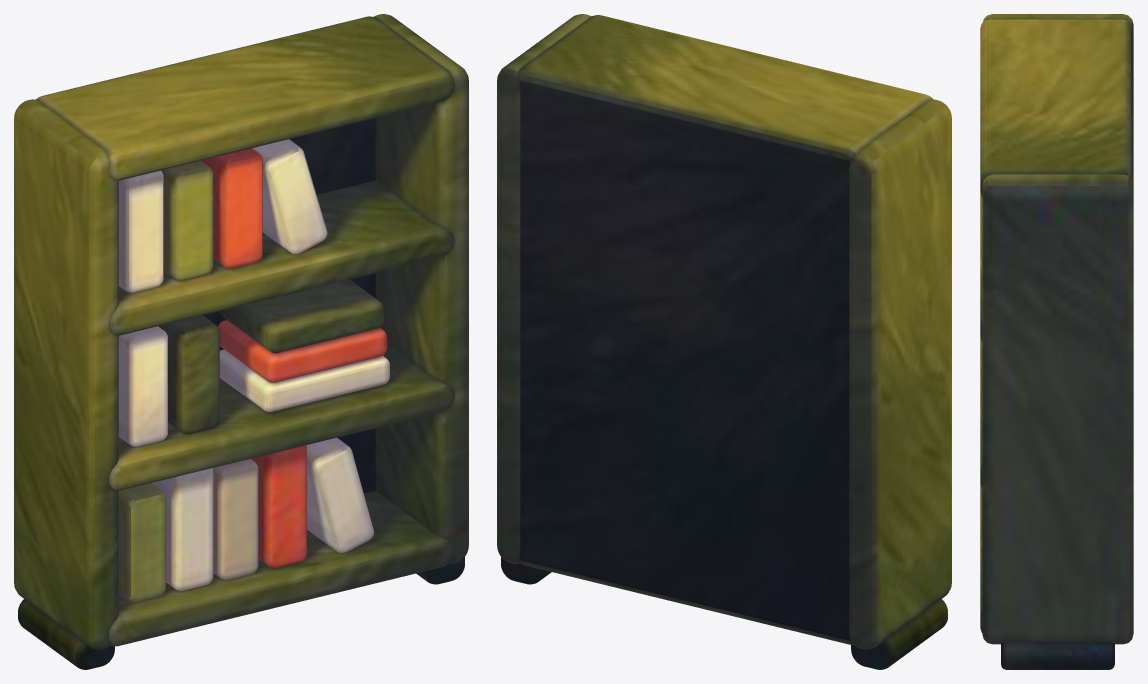
Rendered from collections.glb.
3 views of the same model, side by side, from view 1: azimuth 30°, elevation 25°; view 2: azimuth 150°, elevation 25°; view 3: azimuth 270°, elevation 25° (orthographic). The views are drawn at different scales.
Visible parts, largest first — view 1: Cloth-bound volume; view 2: Cloth-bound volume; view 3: Cloth-bound volume.
Part boxes in pixels (x1,y1,x2,y2): Cloth-bound volume: (14, 14, 468, 669); Cloth-bound volume: (497, 14, 951, 669); Cloth-bound volume: (980, 14, 1133, 669).
Size of the model in its own units: 1.82 by 2.33 by 0.658.
Materials: 1 (1 with a texture image).
